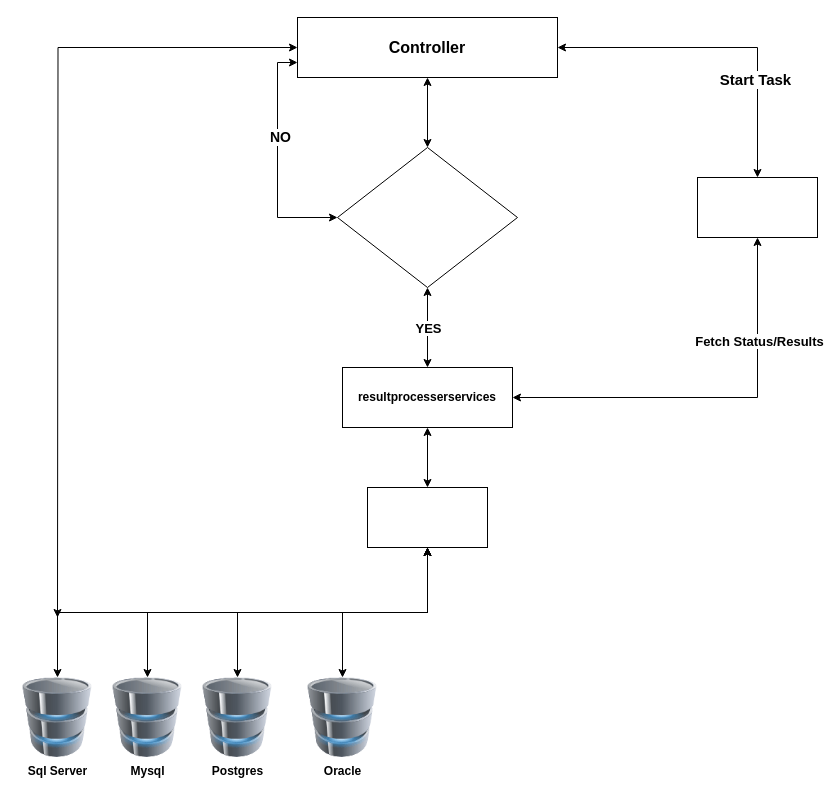
Some shapes in this 840 by 796 pixel diagram are drawn without their labels. The centre of each missing label's shape, as x and y in pixels:
dalservices: [427,517]
enableResultsService ==1: [427,217]
IDP: [757,207]
